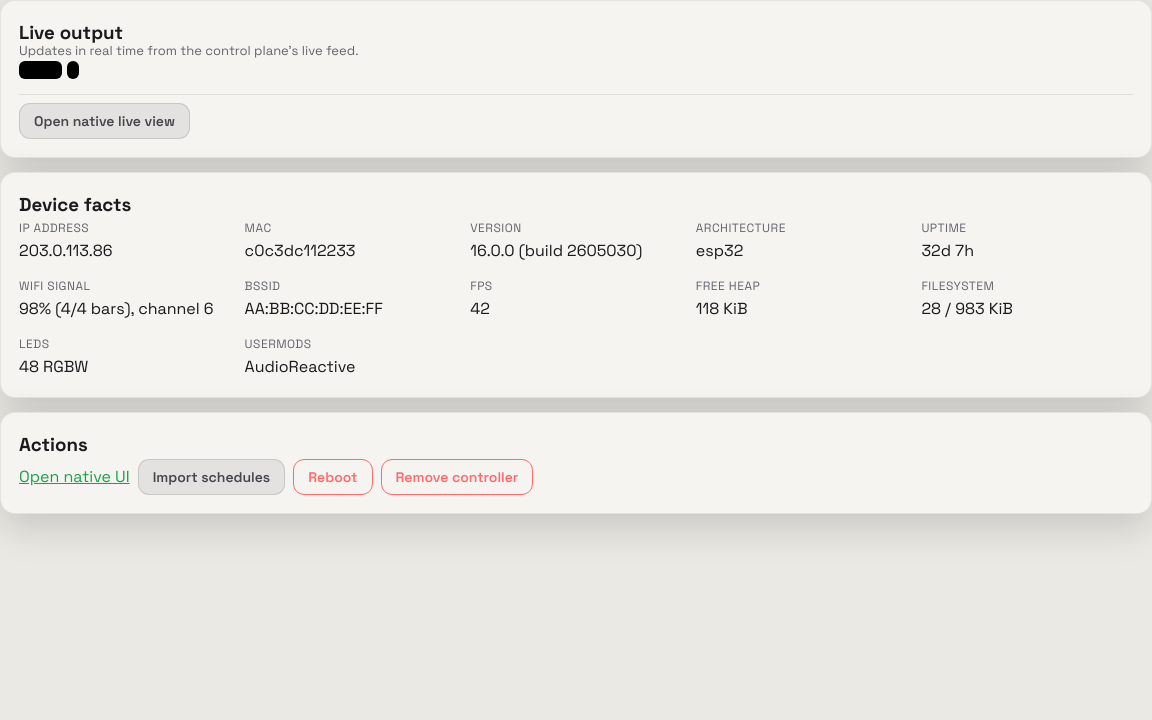
Test: InfoTab › imports device schedules and toasts the result
Step 1. Click the button "Import schedules" → (211, 477), box x1=138 y1=459 x2=285 y2=495
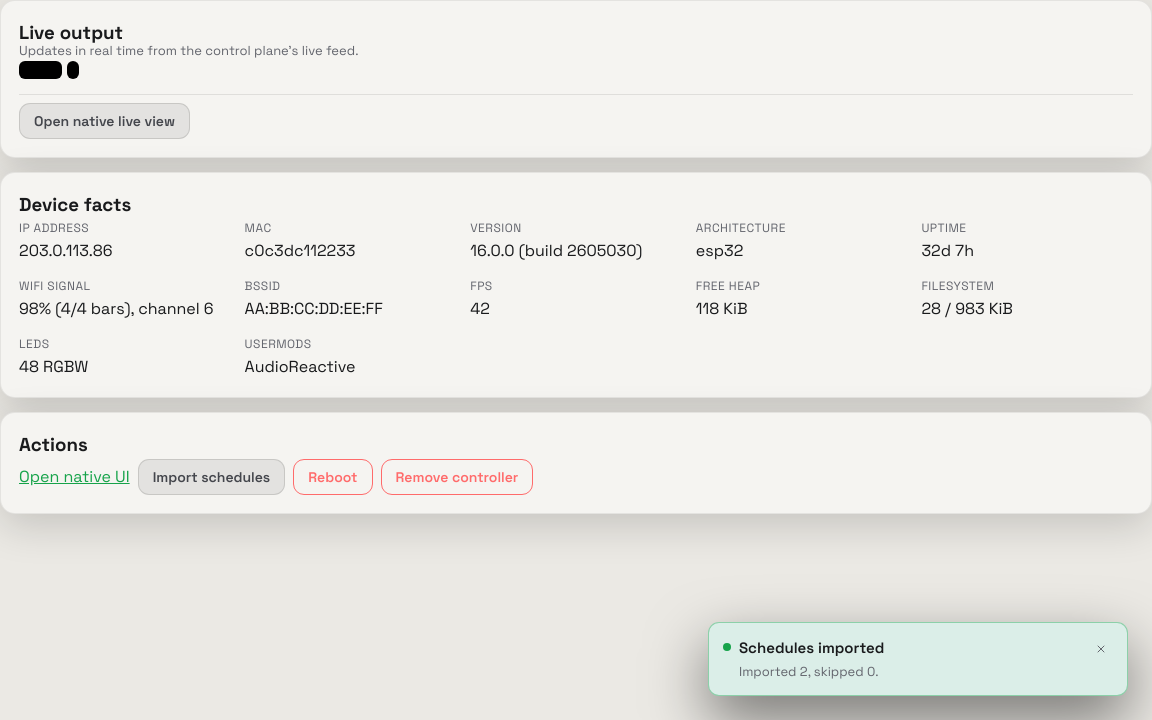
Result: the text "Schedules imported" is shown at x1=739 y1=638 x2=884 y2=657
